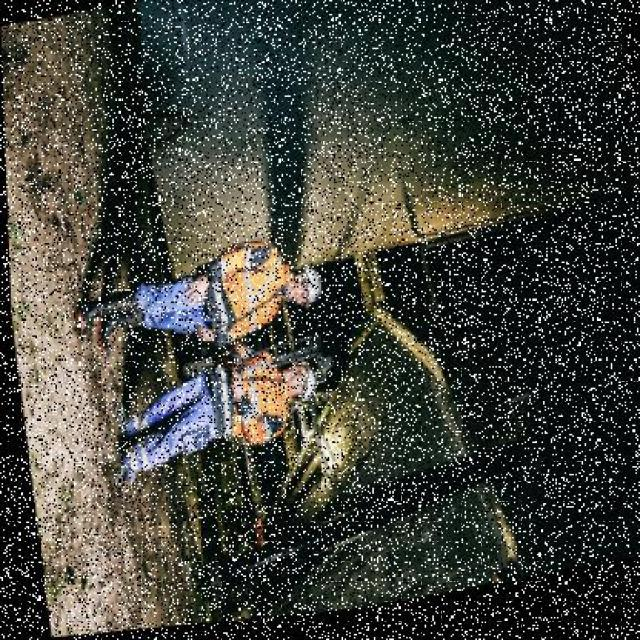vest: (186, 251, 292, 355), (197, 354, 289, 459)
